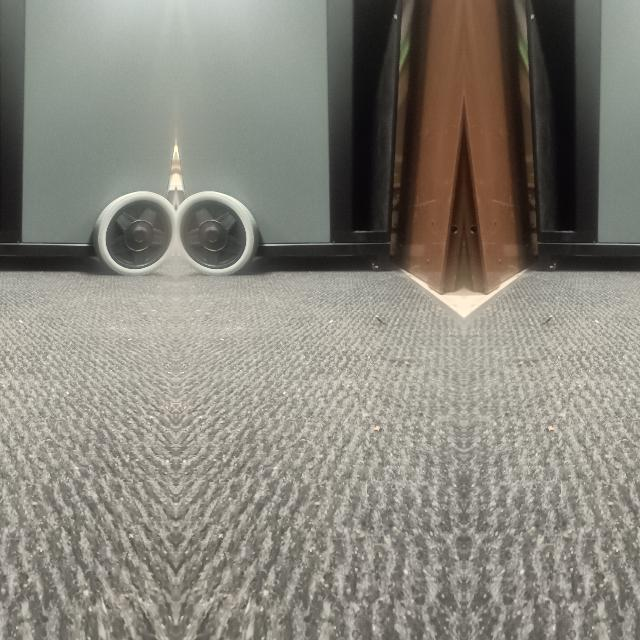obstacle: (175, 64, 399, 272), (0, 63, 175, 272), (528, 63, 640, 272), (466, 93, 514, 295), (414, 93, 461, 295)
